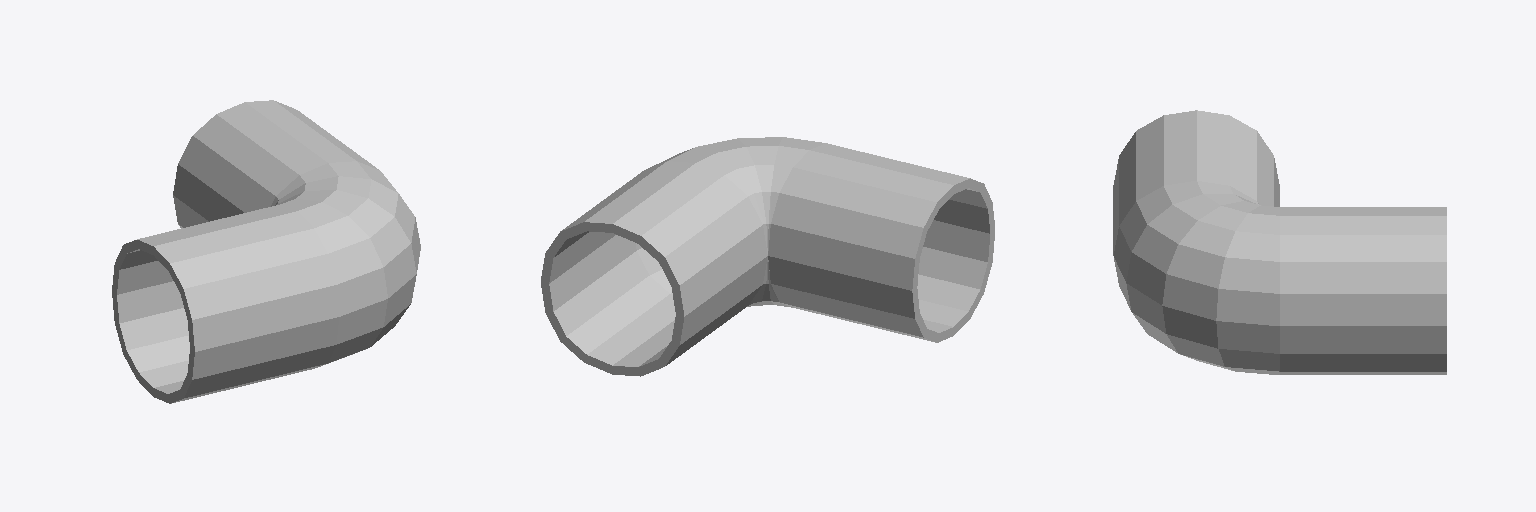
Rendered from CurvePipe.obj.
3 renders of one model, left to right at view 1: azimuth 30°, elevation 25°; view 2: azimuth 150°, elevation 25°; view 3: azimuth 270°, elevation 25°, orthographic.
Parts seen in each view (by area): view 1: Curve_pipe_Cube.002; view 2: Curve_pipe_Cube.002; view 3: Curve_pipe_Cube.002.
Part boxes in pixels (x1,y1,x2,y2): Curve_pipe_Cube.002: (112,100,420,403); Curve_pipe_Cube.002: (541,137,994,376); Curve_pipe_Cube.002: (1113,110,1446,374).
Bounding box in the file's own units: 1.31 × 0.6542 × 1.31.